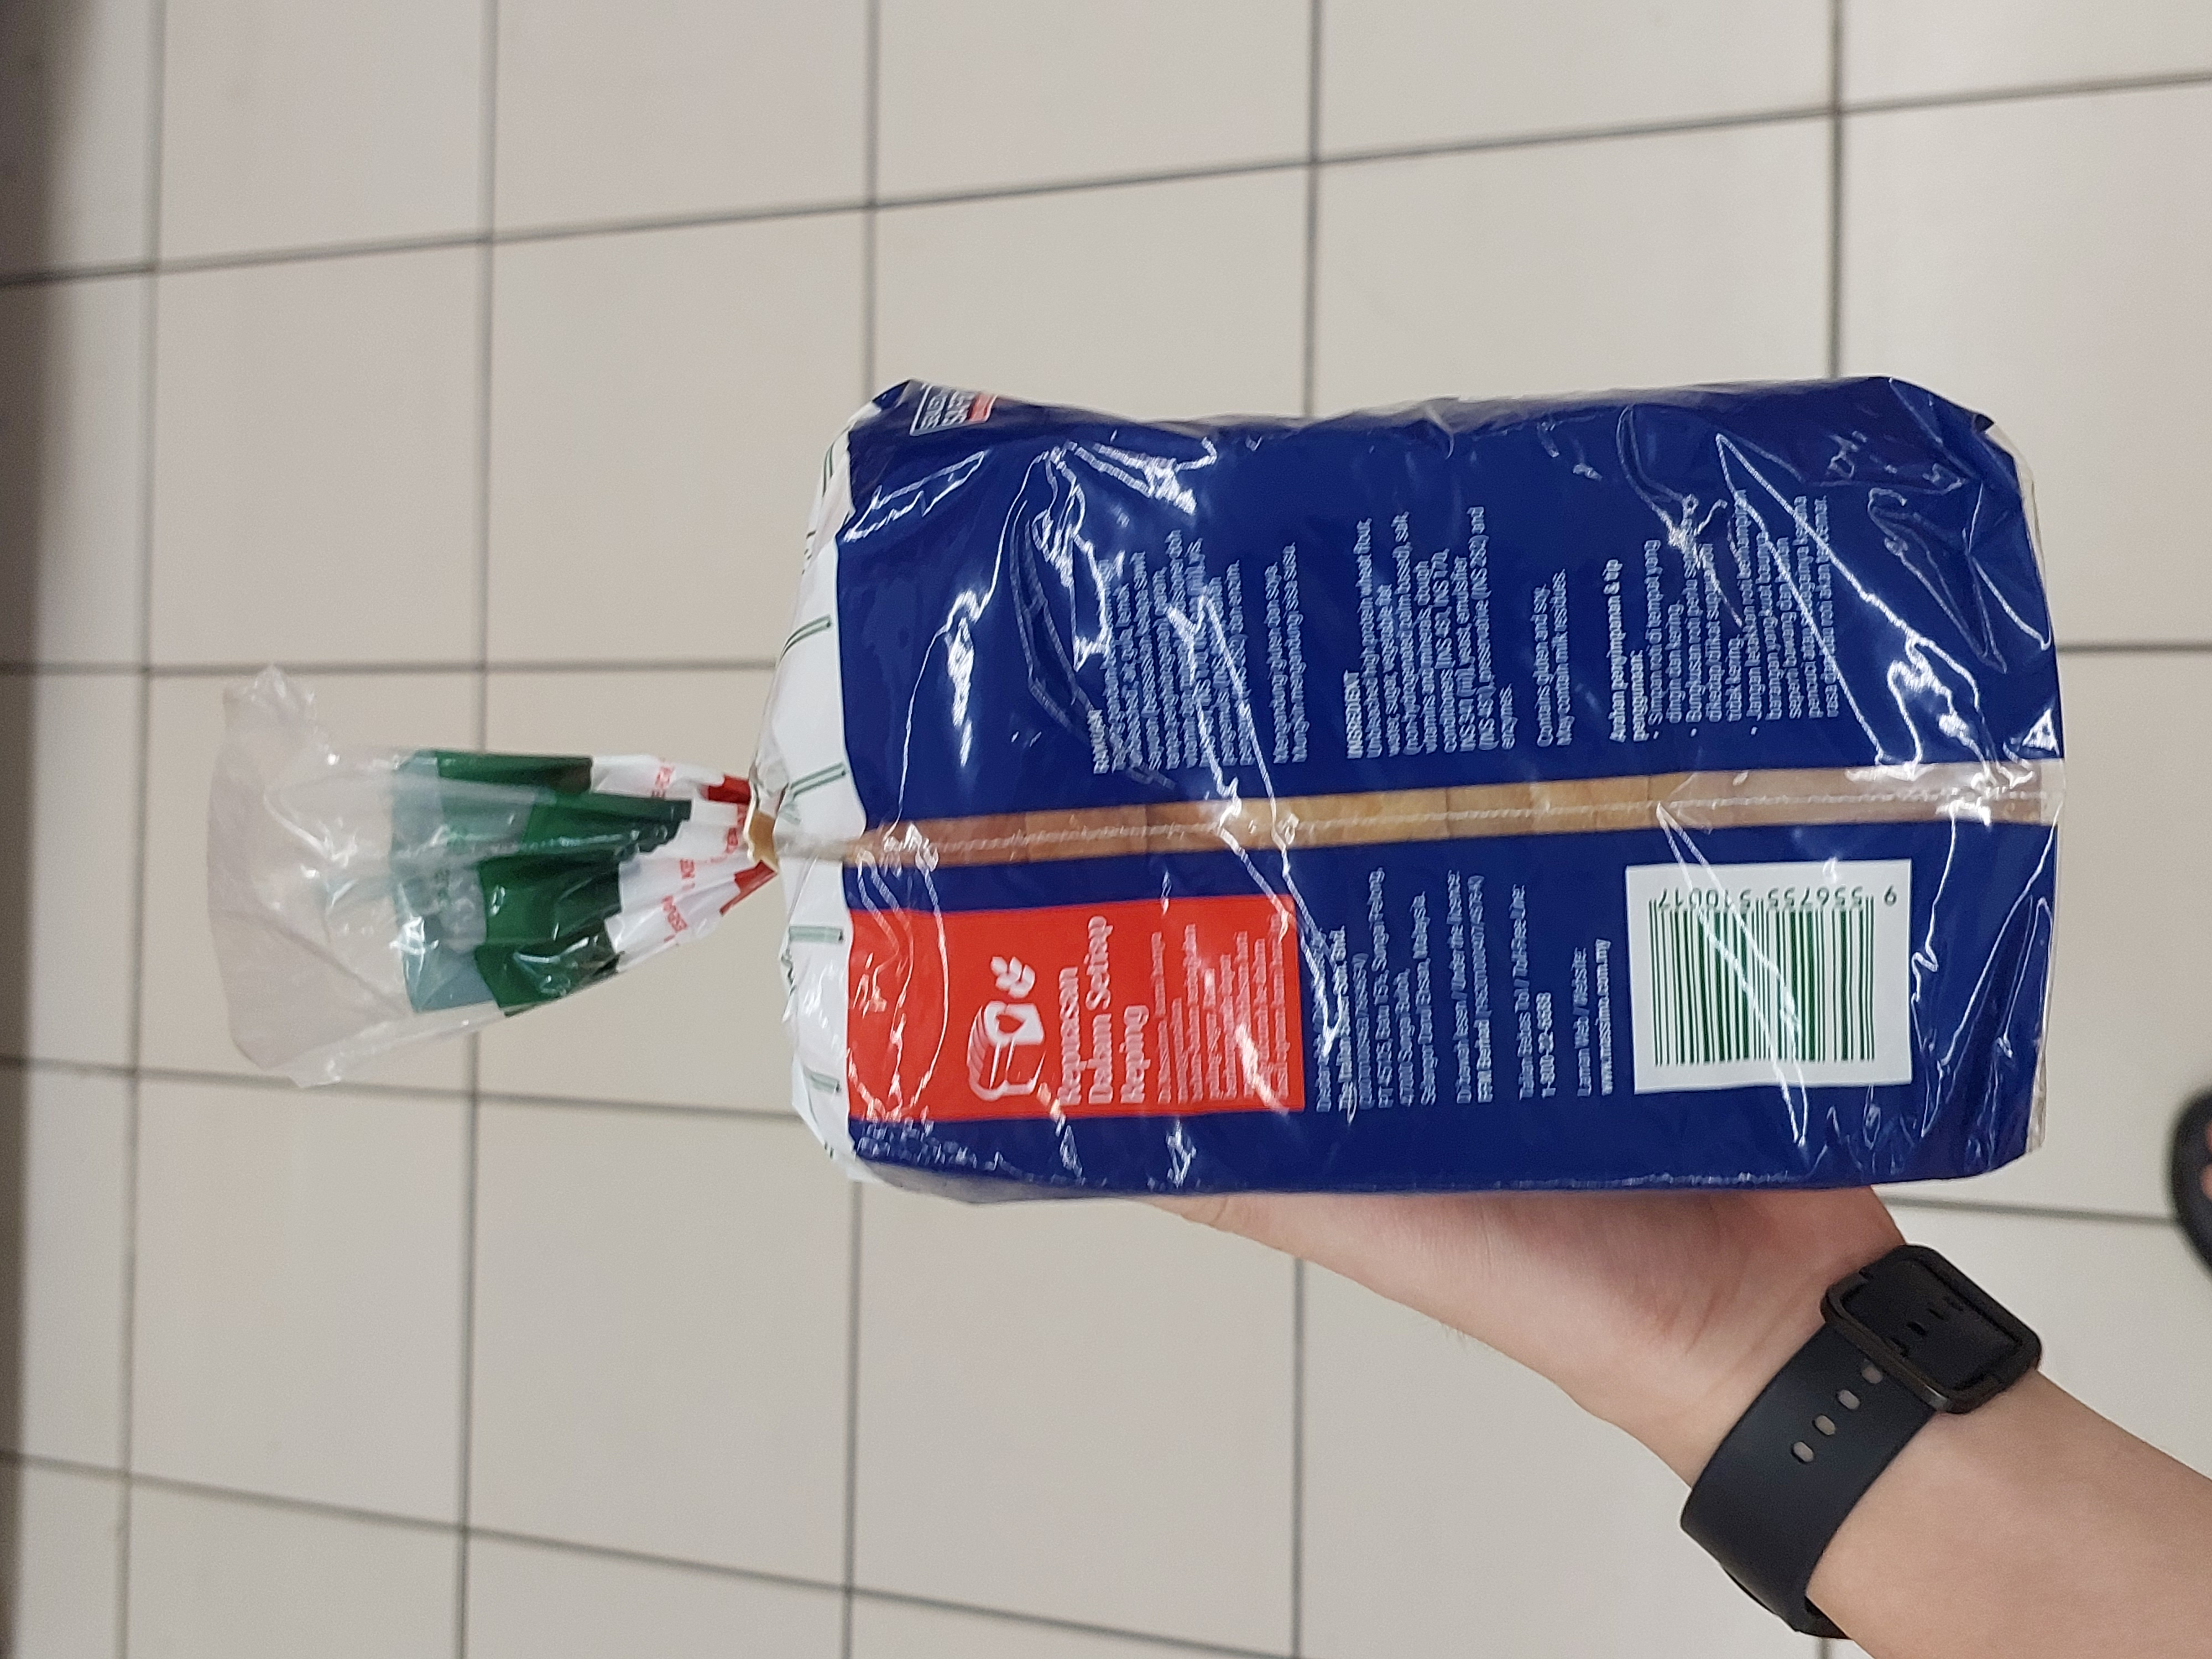bread: (442, 376, 2071, 1213)
